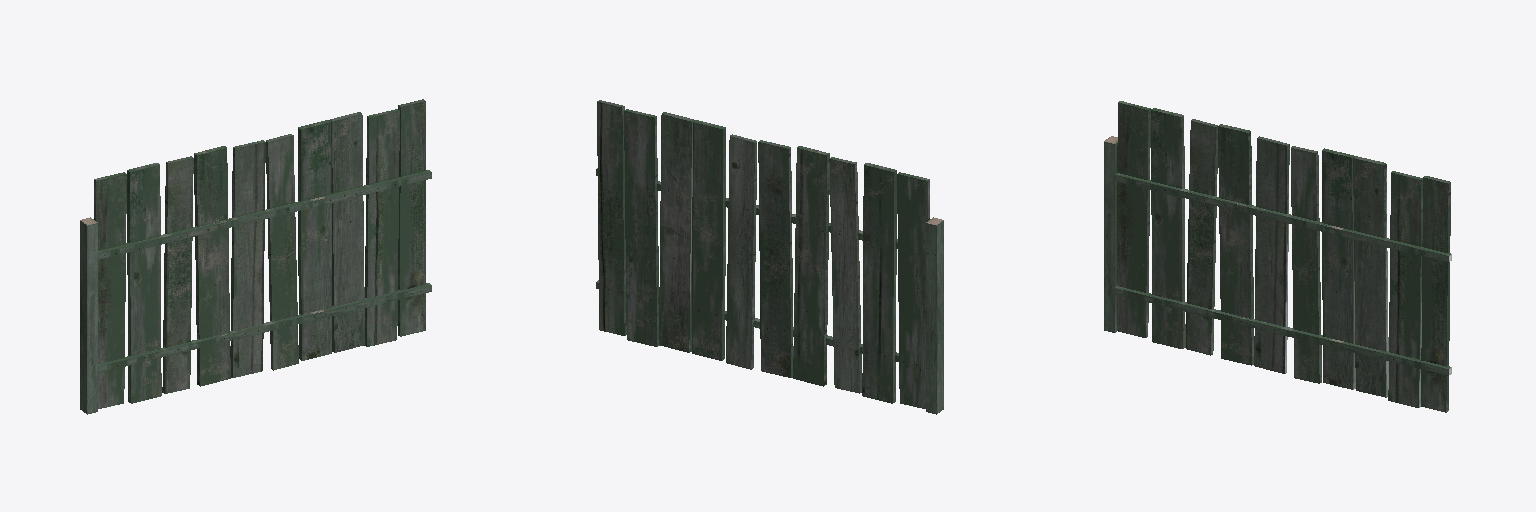
The picture shows the model from 3 angles: view 1: azimuth 30°, elevation 25°; view 2: azimuth 150°, elevation 25°; view 3: azimuth 330°, elevation 25°; orthographic projection.
Parts seen in each view (by area): view 1: Woodenfence1; view 2: Woodenfence1; view 3: Woodenfence1.
Boxes of the visible parts, box(x1,y1,x2,y2) form: Woodenfence1: box(80, 99, 431, 414); Woodenfence1: box(596, 100, 943, 414); Woodenfence1: box(1104, 101, 1451, 412).
Size of the model in its own units: 25 by 16.27 by 0.9474.
Materials: 1 (1 with a texture image).